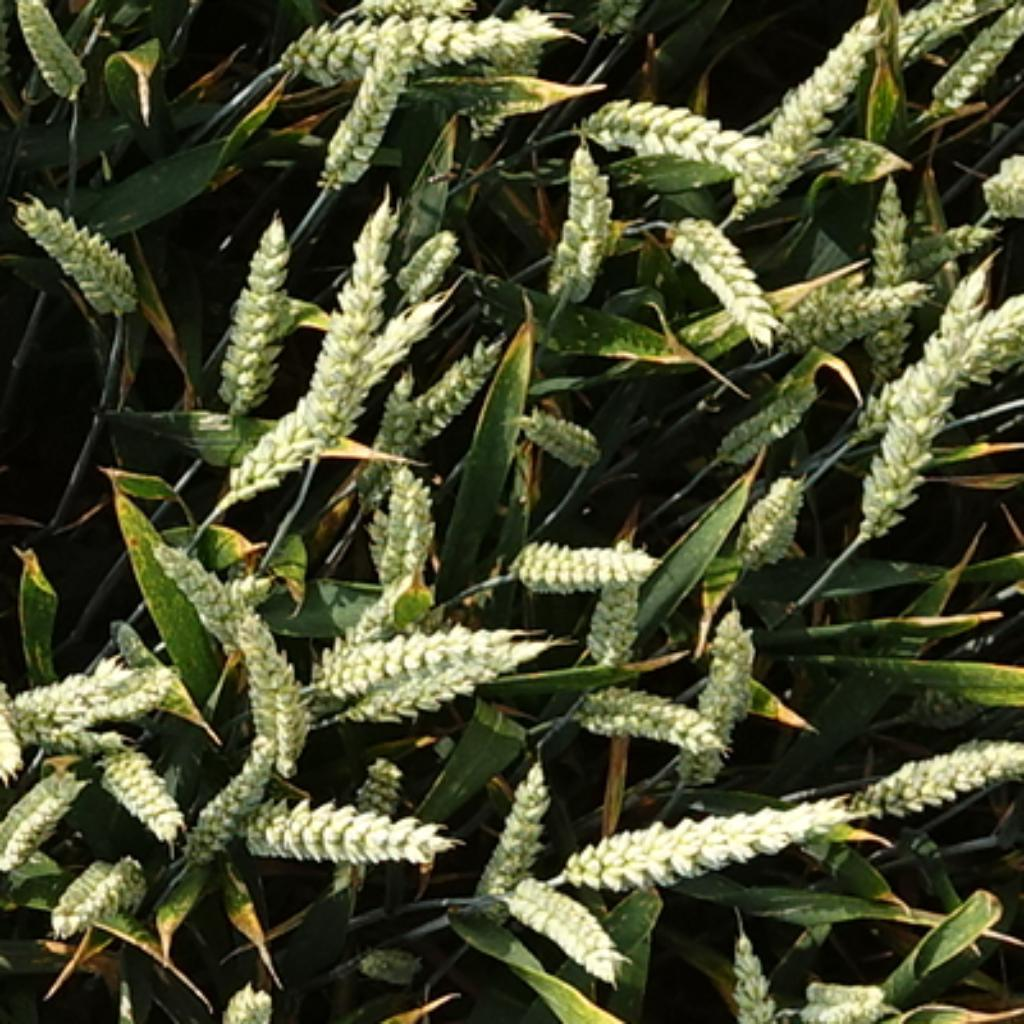0-0: (217, 284, 460, 506), (852, 245, 1000, 542), (545, 788, 849, 893), (729, 7, 880, 217), (291, 189, 404, 458), (849, 289, 1024, 450), (348, 337, 506, 491), (284, 10, 573, 89), (340, 640, 570, 734), (581, 81, 783, 184), (235, 778, 450, 867), (212, 599, 317, 780), (5, 179, 145, 312), (314, 619, 532, 701), (670, 590, 760, 787), (849, 721, 1024, 816), (215, 212, 289, 424), (663, 202, 778, 330), (314, 40, 419, 179), (537, 135, 622, 304), (312, 573, 417, 704), (509, 870, 634, 980), (783, 268, 929, 360), (471, 757, 547, 926), (148, 540, 258, 655), (919, 5, 1024, 125), (565, 673, 721, 747), (181, 739, 279, 855), (711, 366, 821, 465), (504, 524, 663, 591), (61, 663, 194, 742), (327, 750, 396, 901), (865, 168, 913, 384), (870, 2, 998, 81), (0, 762, 89, 872), (43, 852, 151, 939), (97, 742, 186, 842), (727, 460, 811, 565), (12, 2, 94, 107), (381, 463, 442, 601), (5, 657, 122, 727), (389, 212, 468, 304), (578, 565, 650, 655), (512, 394, 604, 463), (901, 220, 990, 284), (796, 965, 890, 1024), (5, 721, 140, 762), (714, 928, 771, 1024), (199, 570, 296, 619), (816, 122, 898, 176), (373, 368, 414, 471), (350, 931, 427, 980), (980, 143, 1024, 225), (504, 4, 545, 89), (212, 975, 279, 1024), (363, 501, 399, 591), (343, 2, 483, 25), (591, 2, 647, 53)
